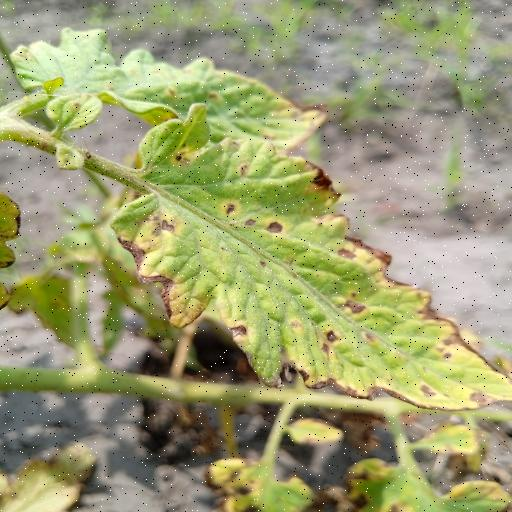Tomato_Brown_Spots: (112, 96, 512, 414), (9, 12, 339, 148)
